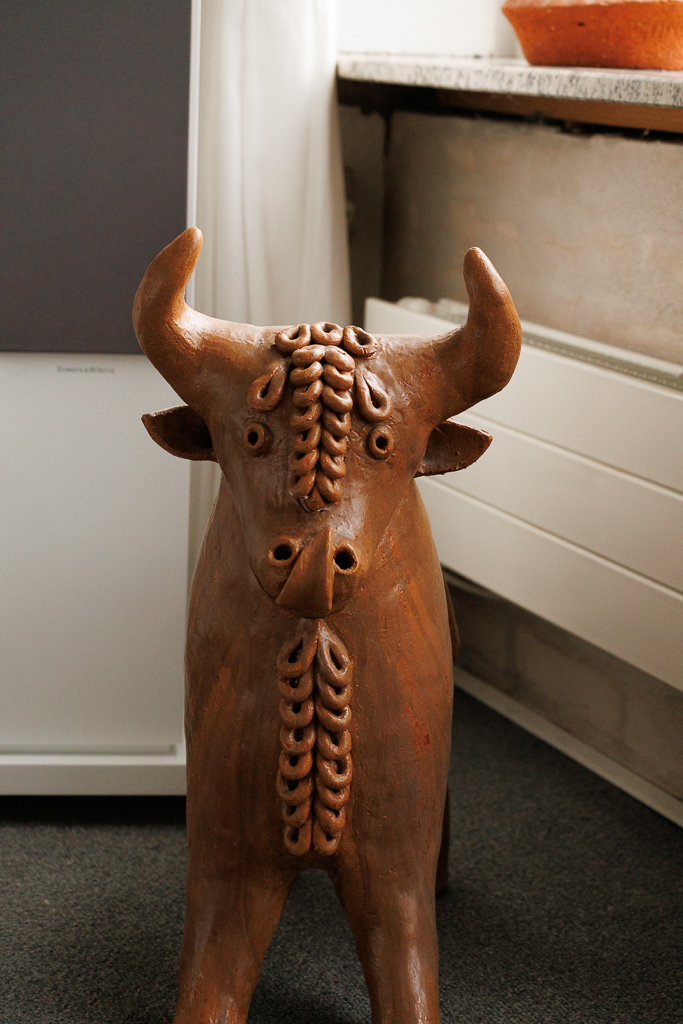Cattle: (103, 207, 541, 1024)
